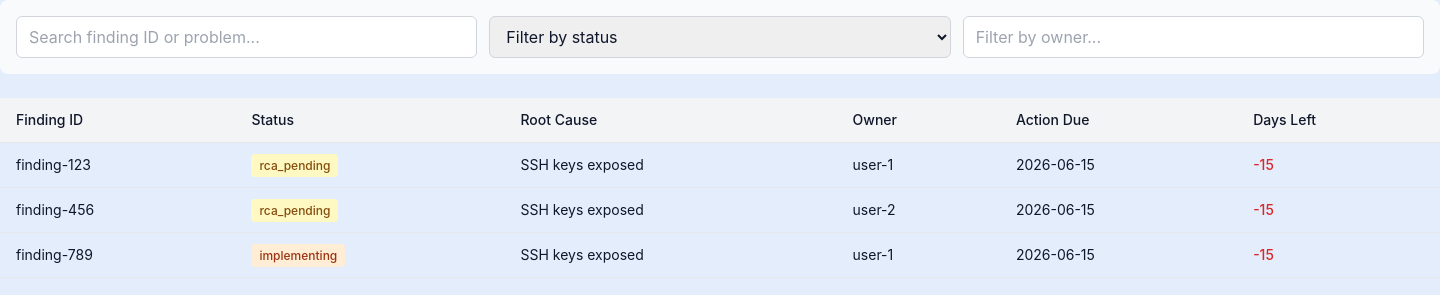
Test case: ActiveCapaList › should filter with AND logic (all filters apply)
Step 1. Select "RCA Pending" in the dropdown showing "Filter by status" → point(720, 37), box 489,16 -> 951,58
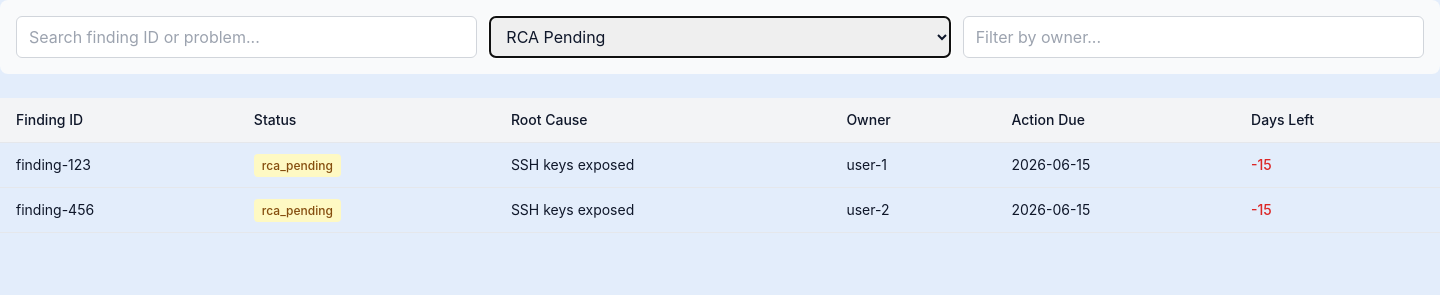
Step 2. Type "user-1" into the field with placeholder "Filter by owner..." → point(1193, 37), box 963,16 -> 1424,58
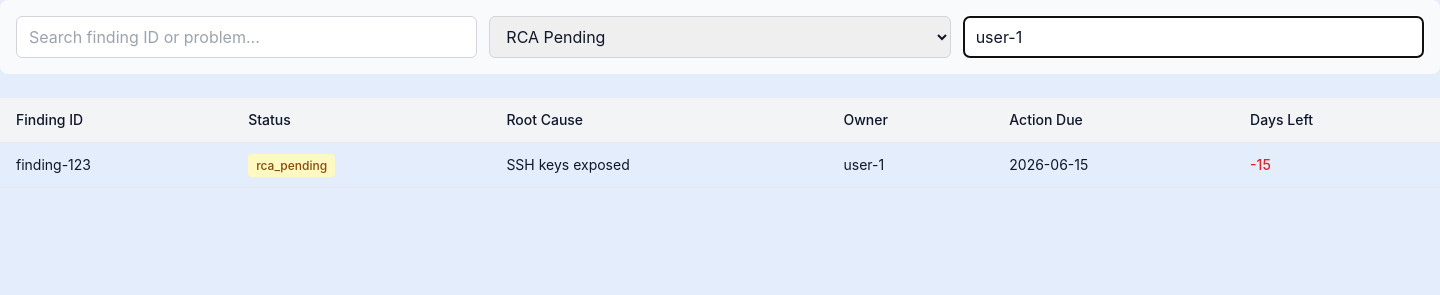
expect the text "finding-123" is shown: met, box 0,142 -> 232,188
expect the text "finding-456" is gone: met
